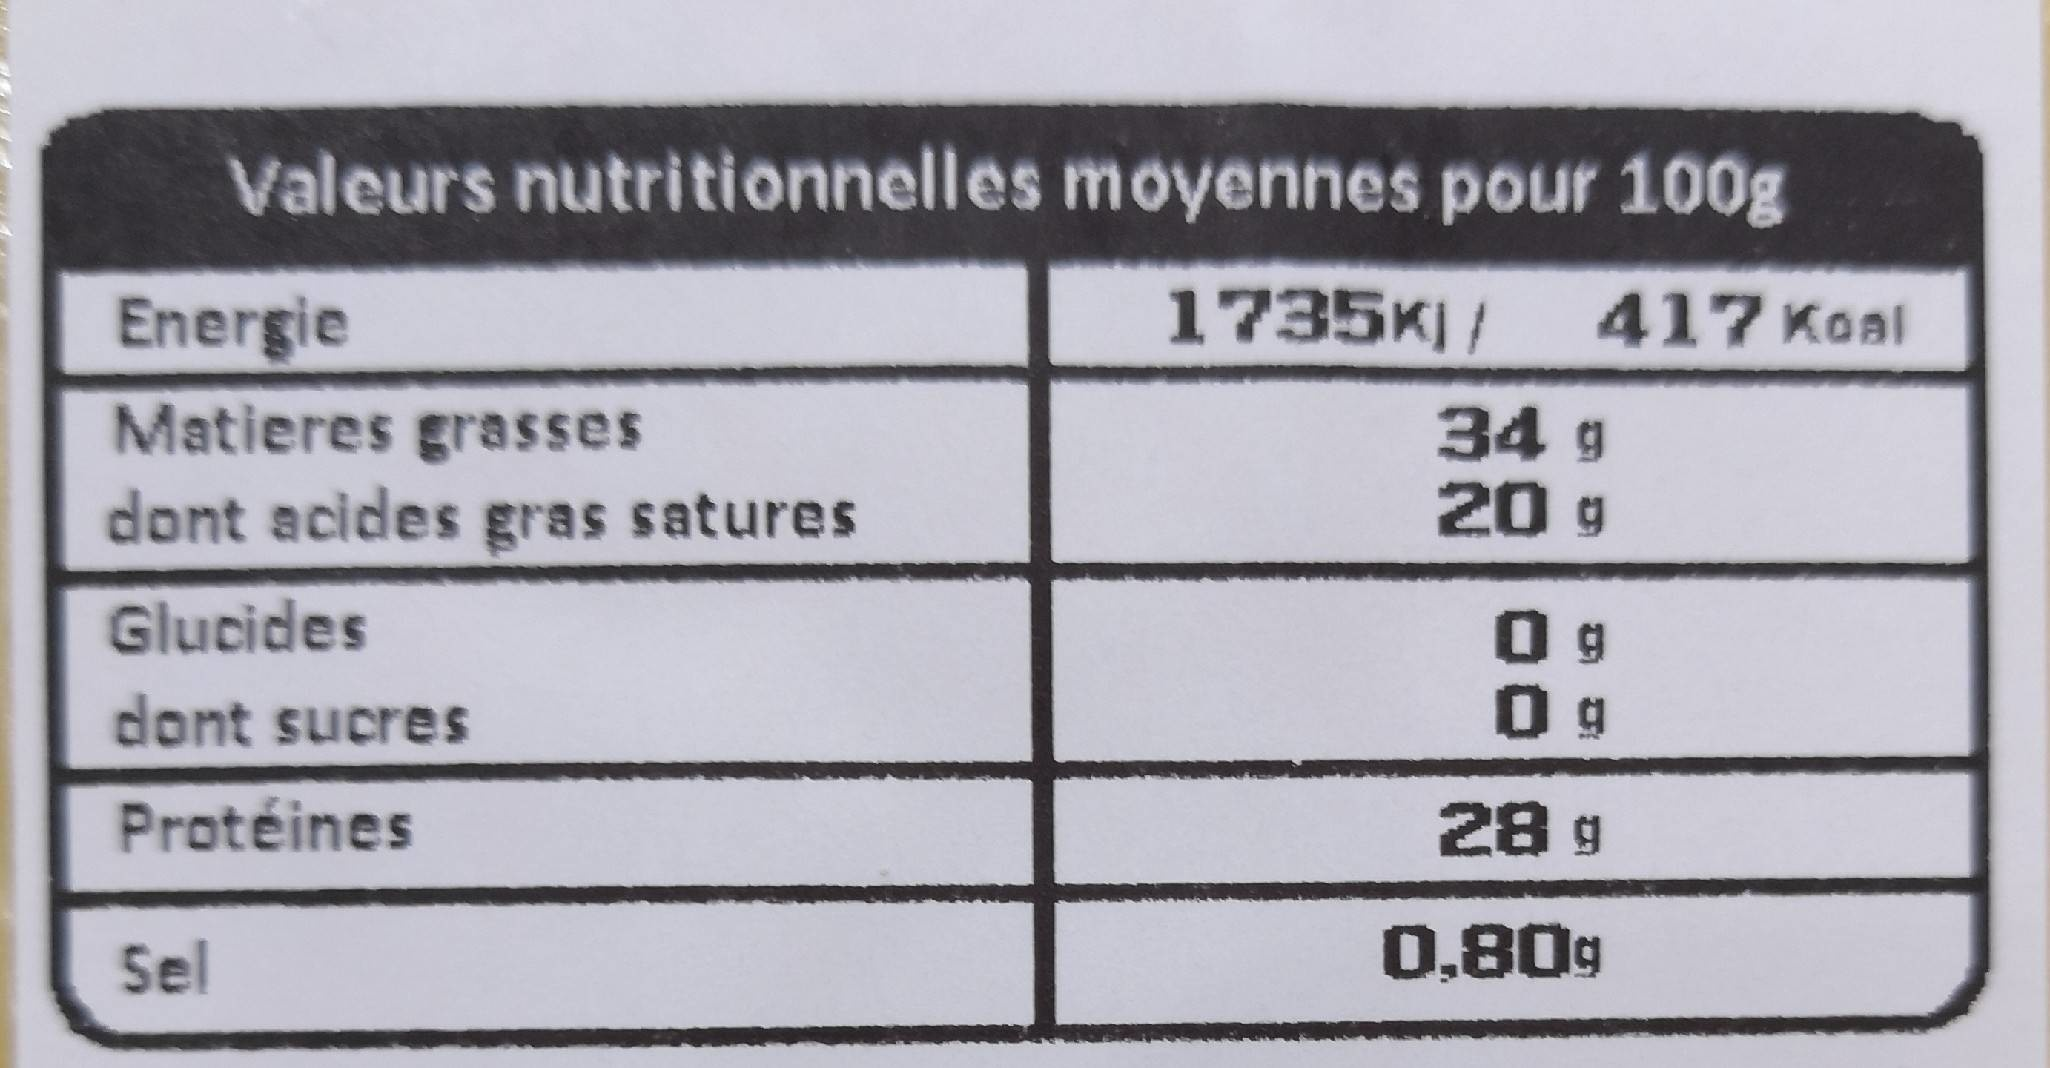column: (62, 275, 1021, 1029), (1059, 272, 1944, 1023)
table: (38, 112, 1982, 1027)
